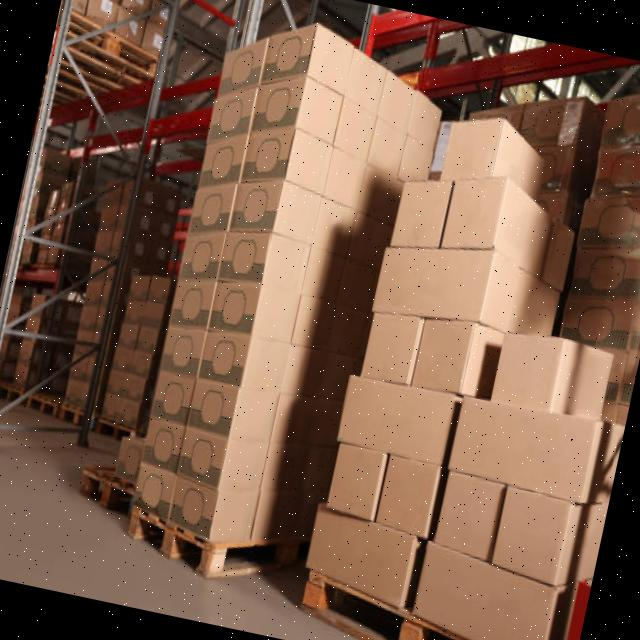Wooden-Pallets: (290, 563, 561, 640), (112, 497, 301, 601), (70, 464, 134, 508)
